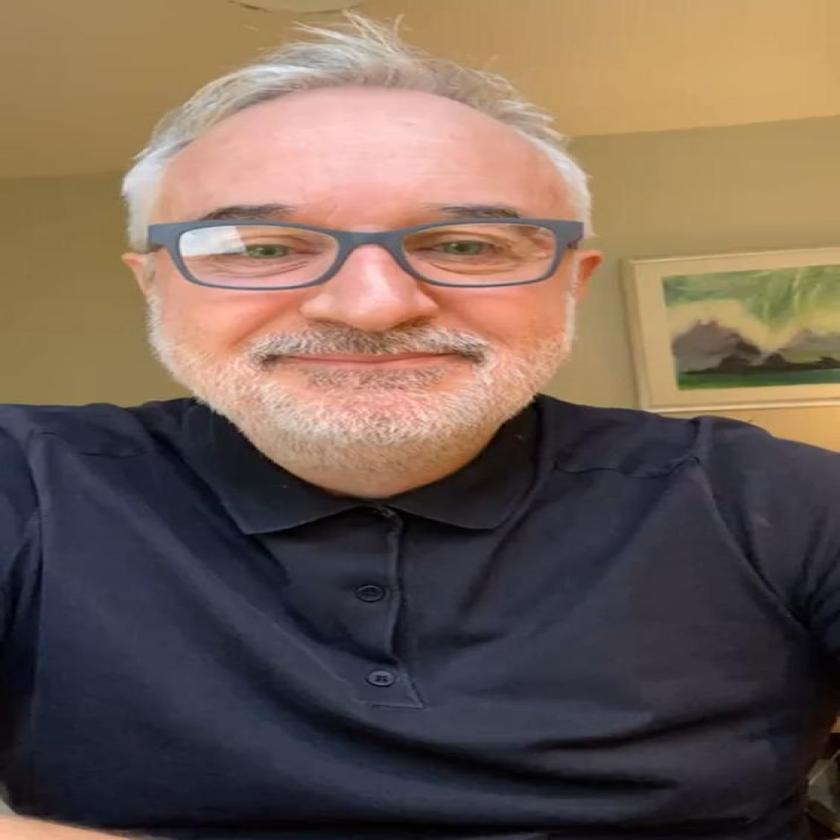Sin_casco: (72, 0, 690, 493)
